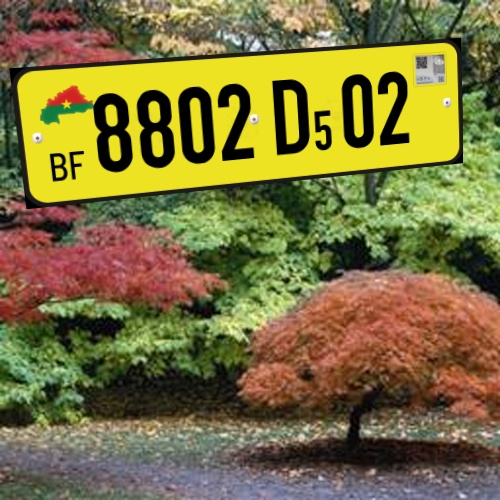plate: (6, 34, 484, 215)
